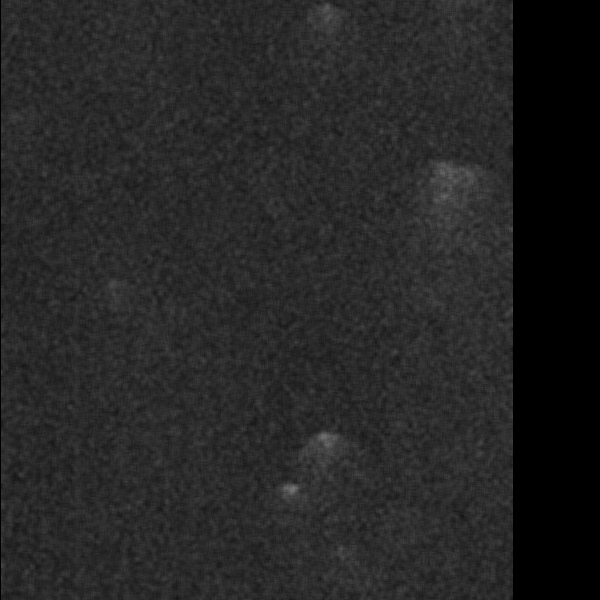spark: (205, 75, 243, 126), (365, 142, 405, 179)
